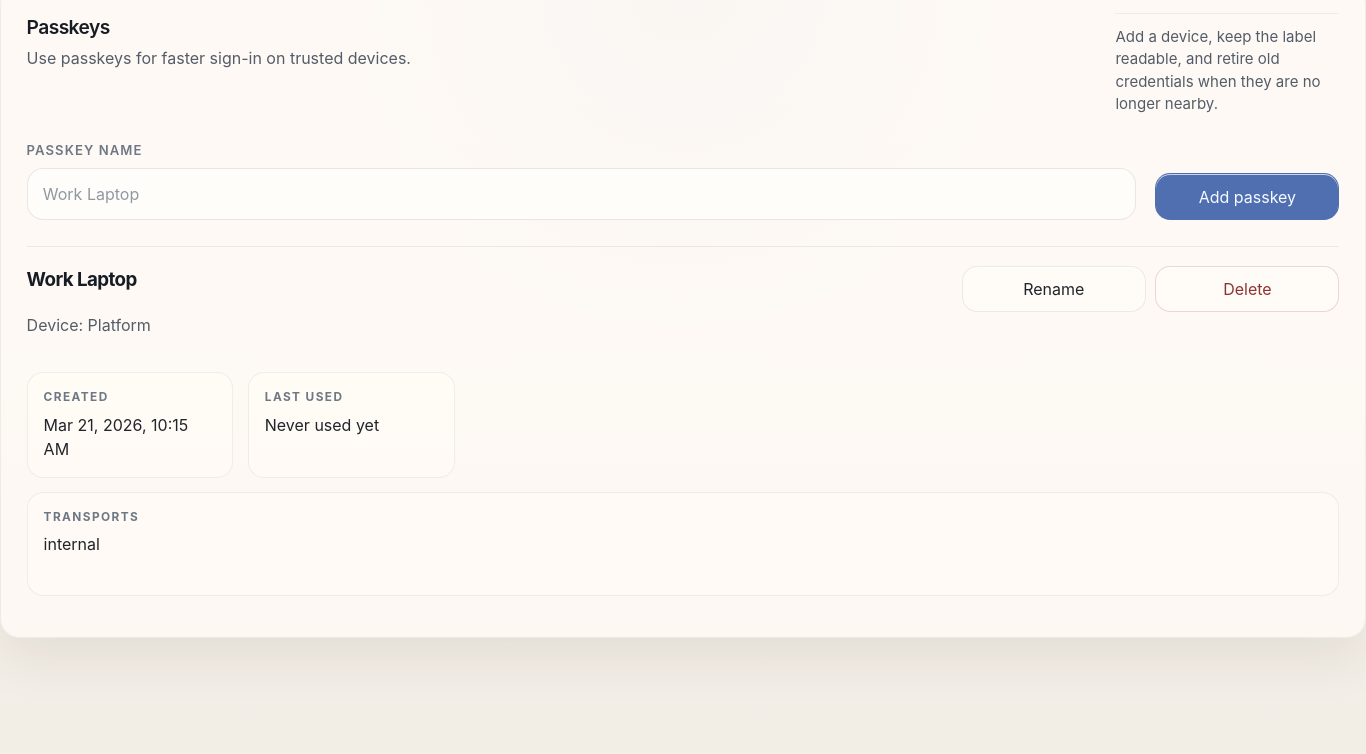
PasskeySection › cancels the rename form without affecting the passkey list
The image size is (1366, 754).
Click the button with aria-label "Rename Work Laptop".
click(1054, 289)  # box x1=962 y1=266 x2=1146 y2=312
(page scrolled)
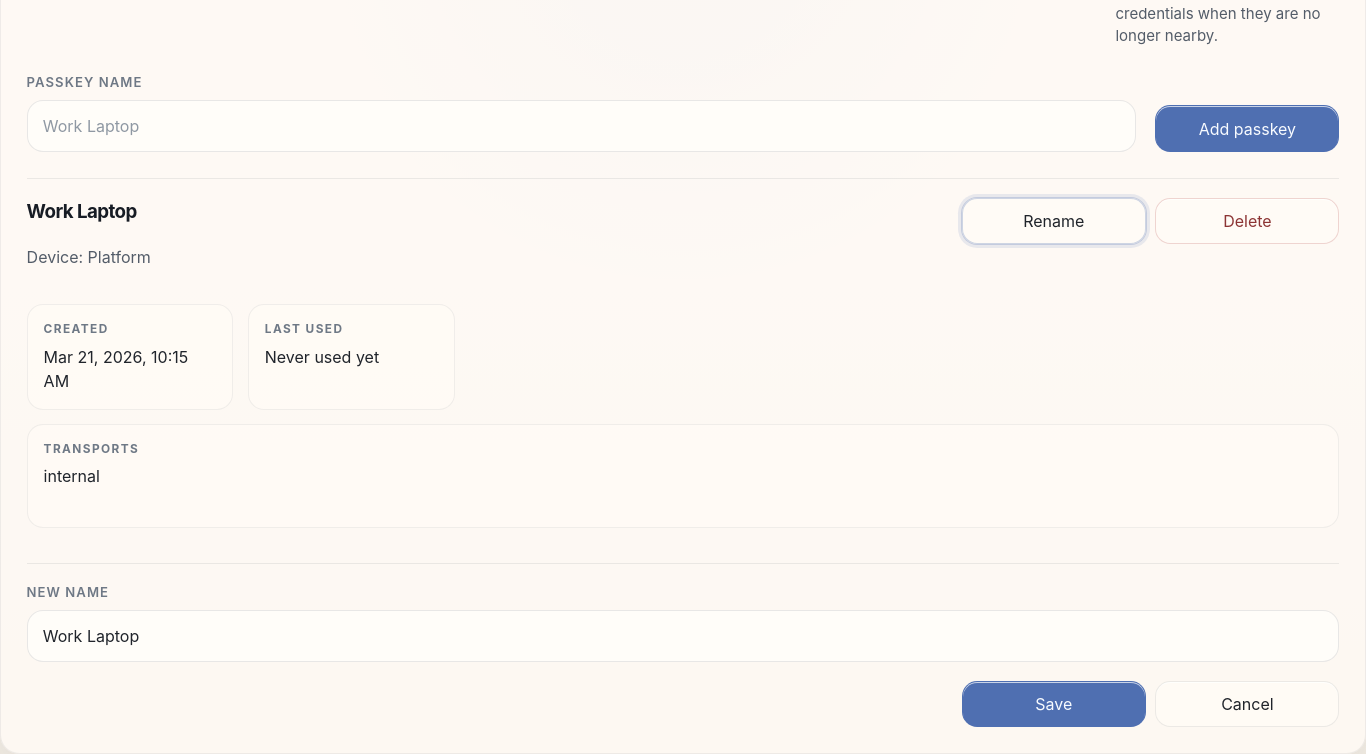
Result: the field labelled "New name" holds "Work Laptop" at x1=27 y1=610 x2=1339 y2=662
Click the button "Cancel".
click(1247, 704)  # box x1=1155 y1=681 x2=1339 y2=727
(page scrolled)
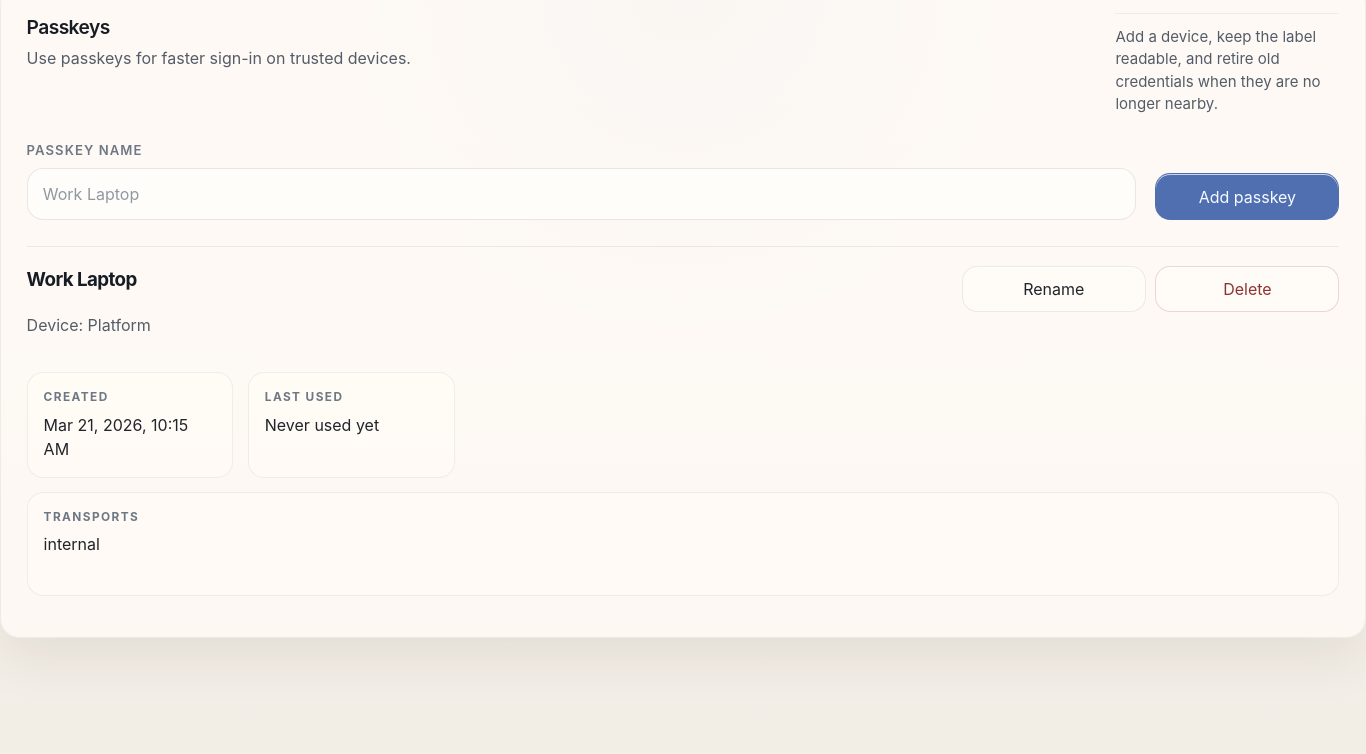
Expected: the heading "Work Laptop" is shown, x1=27 y1=266 x2=151 y2=294
Result: the text labelled "New name" is gone
